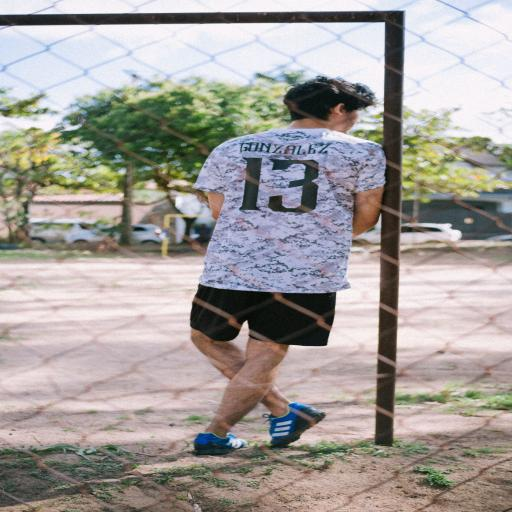shoe: (264, 403, 325, 447), (195, 432, 247, 455)
